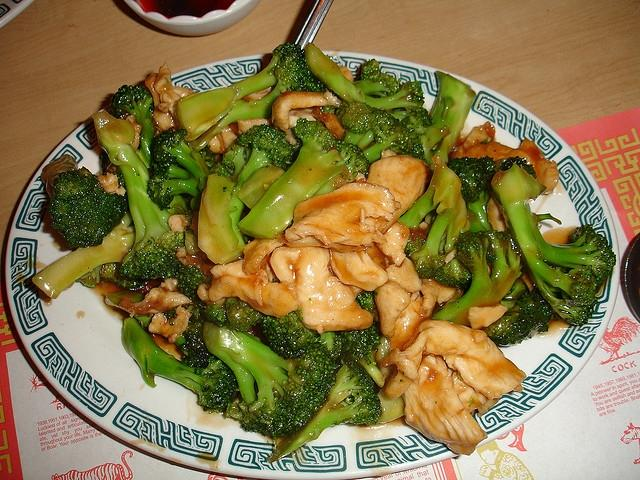broccoli: (491, 163, 616, 325), (202, 322, 338, 448), (197, 123, 296, 265), (174, 41, 306, 142), (238, 118, 349, 238), (266, 361, 382, 462), (122, 317, 238, 410), (304, 43, 433, 126), (108, 140, 184, 279), (397, 166, 472, 291), (31, 212, 136, 299), (431, 226, 520, 328), (48, 166, 130, 249), (147, 128, 211, 212), (479, 277, 555, 346), (423, 71, 477, 165), (342, 102, 424, 162), (108, 84, 156, 168), (446, 155, 496, 233), (335, 321, 386, 388), (262, 310, 318, 360), (225, 297, 268, 332), (206, 304, 229, 328), (356, 292, 376, 312)
